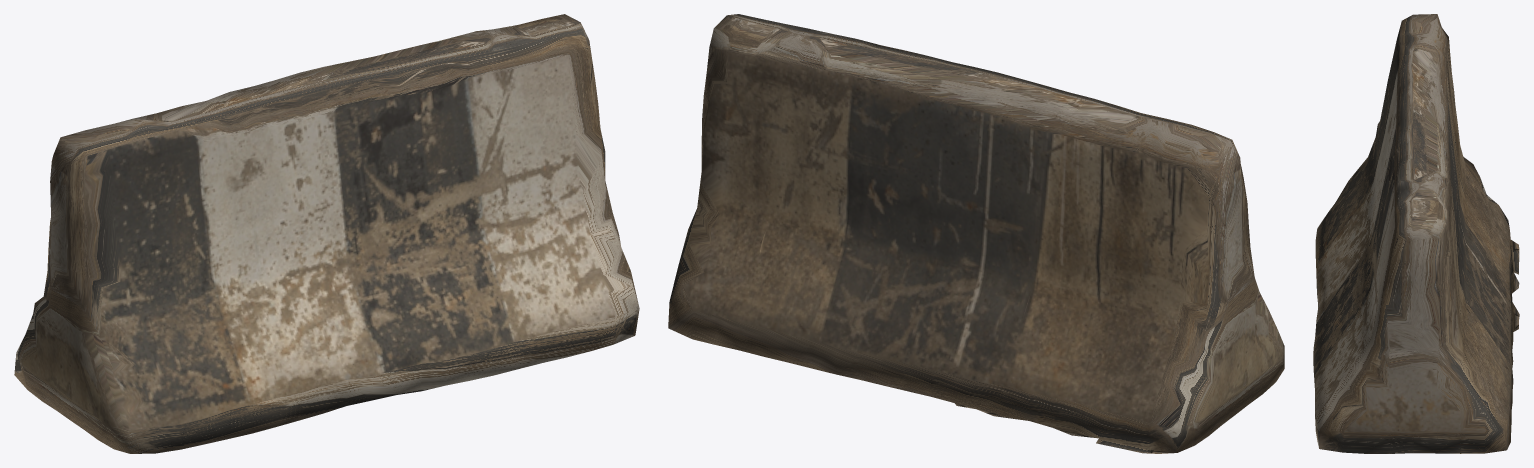
The model's file is concrete_road_barrier.glb.
3 renders of one model, left to right at view 1: azimuth 30°, elevation 25°; view 2: azimuth 150°, elevation 25°; view 3: azimuth 270°, elevation 25°, orthographic. The views are drawn at different scales.
Parts seen in each view (by area): view 1: concrete_road_barrier; view 2: concrete_road_barrier; view 3: concrete_road_barrier.
Part boxes in pixels (left/top/right/bottom): concrete_road_barrier: left=14, top=14, right=639, bottom=453; concrete_road_barrier: left=668, top=14, right=1284, bottom=453; concrete_road_barrier: left=1313, top=14, right=1519, bottom=453.
Size of the model in its own units: 1.54 by 0.8071 by 0.6207.
Materials: 1 (1 with a texture image).
